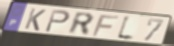7: (143, 18, 165, 42)
F: (91, 15, 121, 38)
K: (23, 8, 48, 32)
L: (115, 14, 136, 43)
P: (44, 9, 72, 34)
R: (67, 11, 95, 37)
